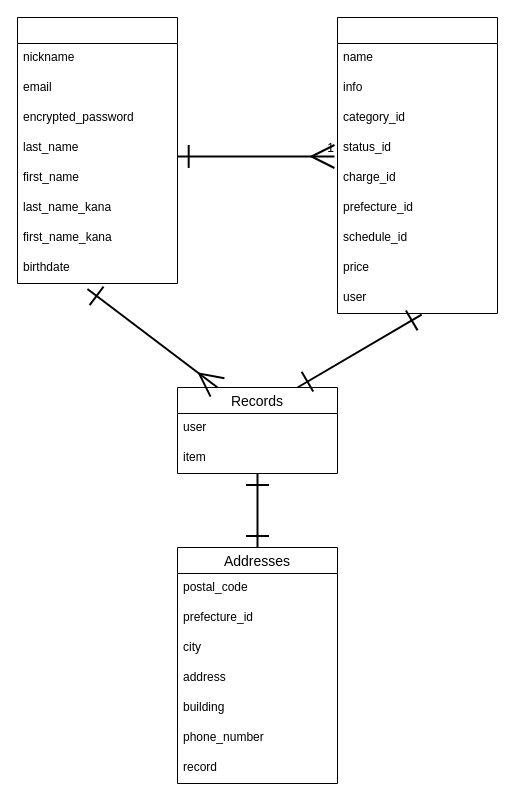
Some shapes in this 515 by 804 pixel diagram are drawn without their labels. The shapes that lost their labels are listed below. From the top down, each one's box as (x1, y1, x2, y2) in pixels, then its label:
(16, 16, 178, 284): Users
(336, 16, 498, 314): Items
